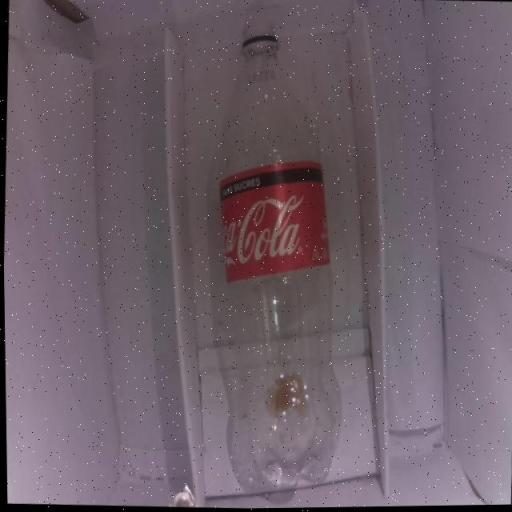plastic: (180, 4, 366, 507)
